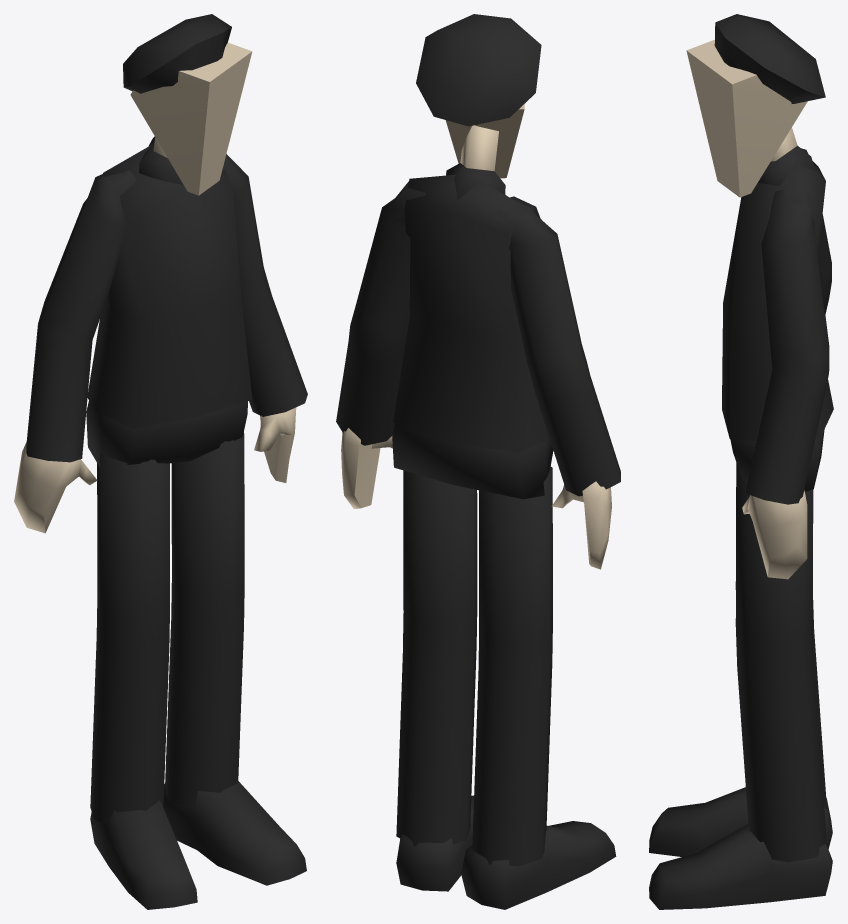
Rendered from mesh_CampPrisoner_c.fbx.
3 renders of one model, left to right at view 1: azimuth 30°, elevation 25°; view 2: azimuth 150°, elevation 25°; view 3: azimuth 270°, elevation 25°, orthographic. The views are drawn at different scales.
Visible parts, largest first — view 1: PrisonerC; view 2: PrisonerC; view 3: PrisonerC.
Boxes of the visible parts, x1=… form: PrisonerC: x1=14, y1=14, x2=307, y2=909; PrisonerC: x1=336, y1=14, x2=620, y2=909; PrisonerC: x1=649, y1=14, x2=833, y2=909.
Size of the model in its own units: 34.17 by 98.93 by 19.42.
